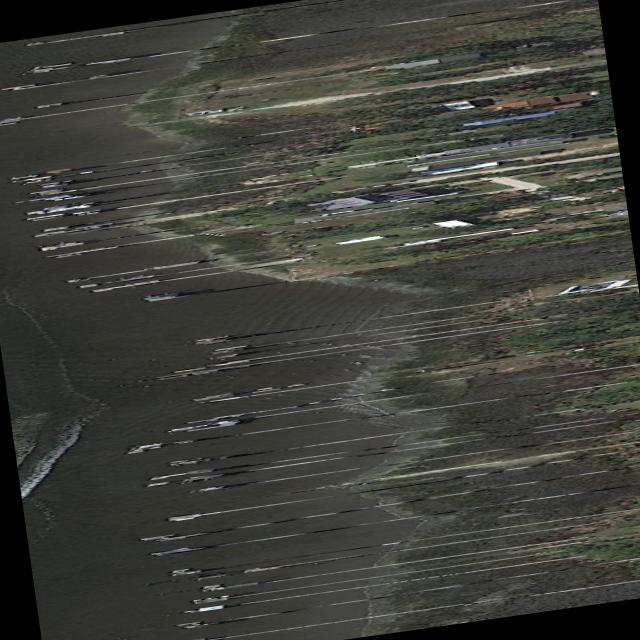ship: (33, 203, 100, 214), (45, 193, 95, 201), (22, 213, 66, 220), (319, 208, 363, 215), (11, 175, 54, 182), (167, 424, 209, 431)
small-vehicle: (371, 180, 410, 186), (409, 225, 428, 229)
